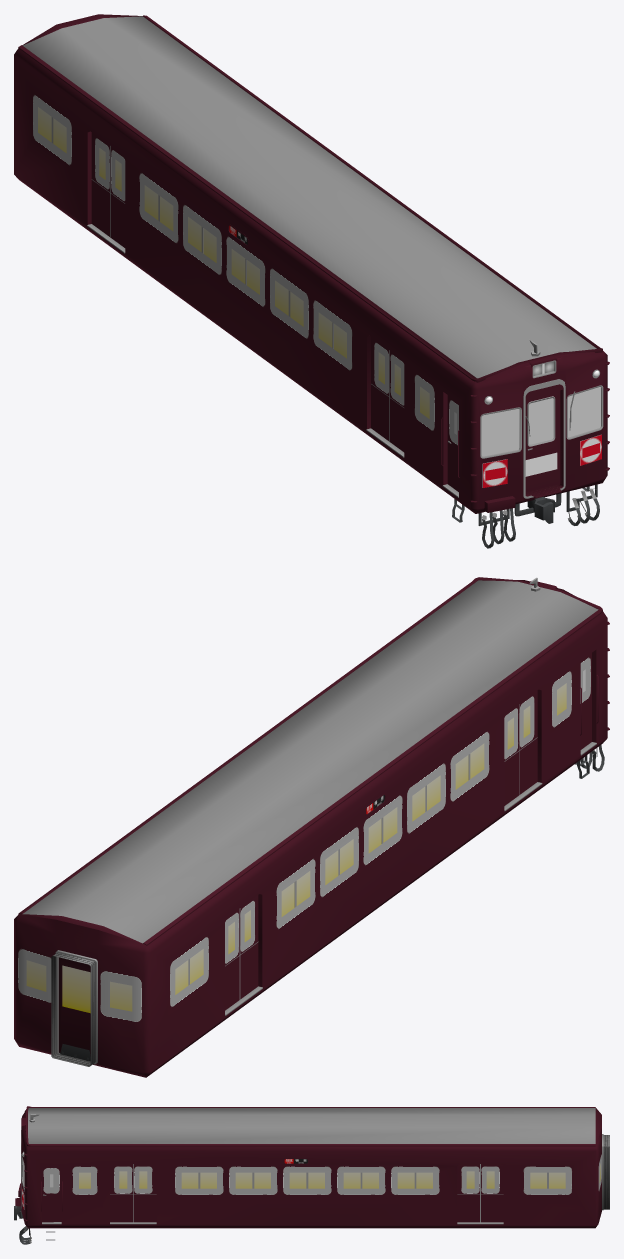
3 renders of one model, top to bottom at view 1: azimuth 30°, elevation 25°; view 2: azimuth 150°, elevation 25°; view 3: azimuth 270°, elevation 25°, orthographic. The views are drawn at different scales.
Visible parts, largest first — view 1: IN; view 2: IN; view 3: IN.
Part boxes in pixels (<box>): IN: <box>14,14,609,548</box>; IN: <box>14,577,609,1077</box>; IN: <box>14,1106,609,1244</box>.
Size of the model in its own units: 6.68 by 8.41 by 39.48.
Materials: 43 (41 with a texture image).
